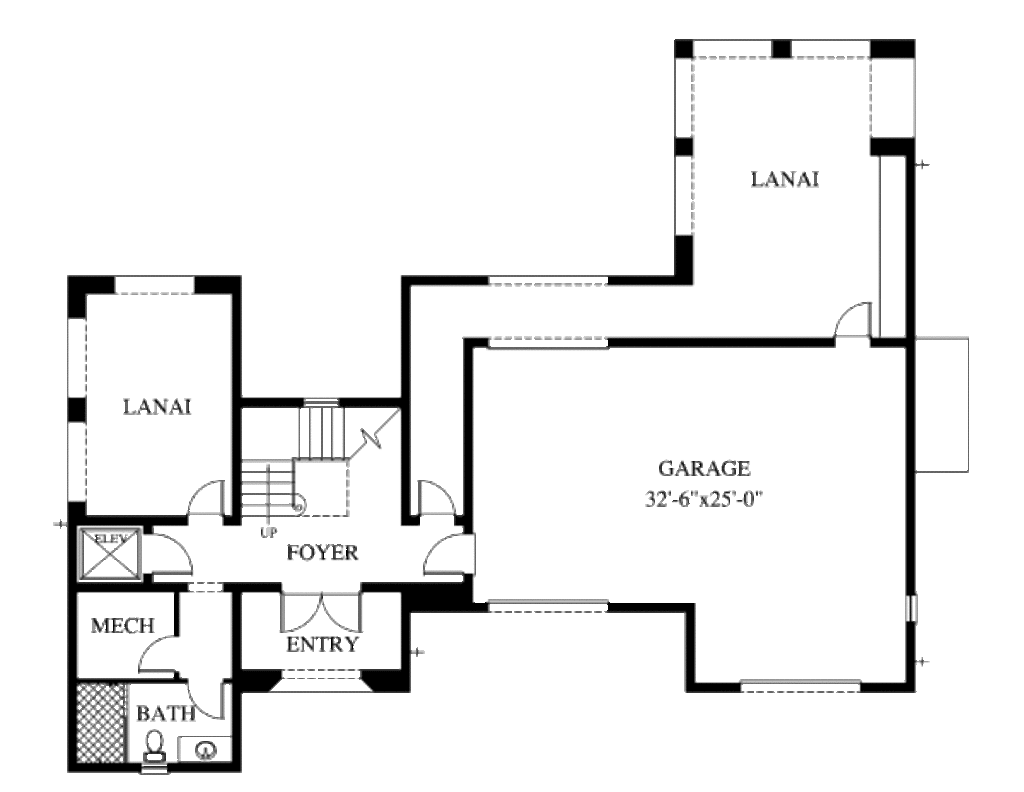door: (278, 589, 363, 637), (421, 532, 478, 577), (147, 526, 195, 575), (185, 476, 226, 524), (136, 631, 180, 675), (187, 677, 230, 720), (414, 480, 457, 523), (832, 299, 873, 343)
large_sink: (136, 727, 169, 762)
small_sink: (177, 735, 235, 765)
stairs: (235, 405, 354, 536)
windows: (488, 333, 609, 356), (484, 597, 611, 617), (483, 273, 611, 289), (739, 679, 869, 691)
